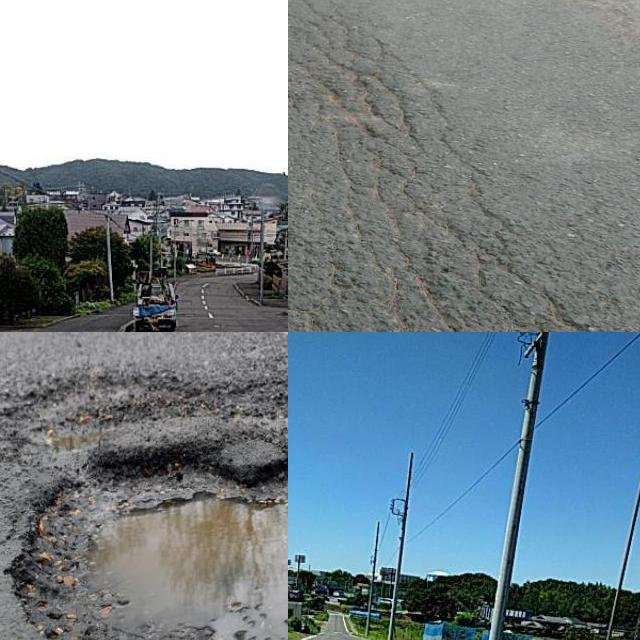Lubang: (26, 451, 288, 640)
Retak Buaya: (288, 0, 588, 332)
